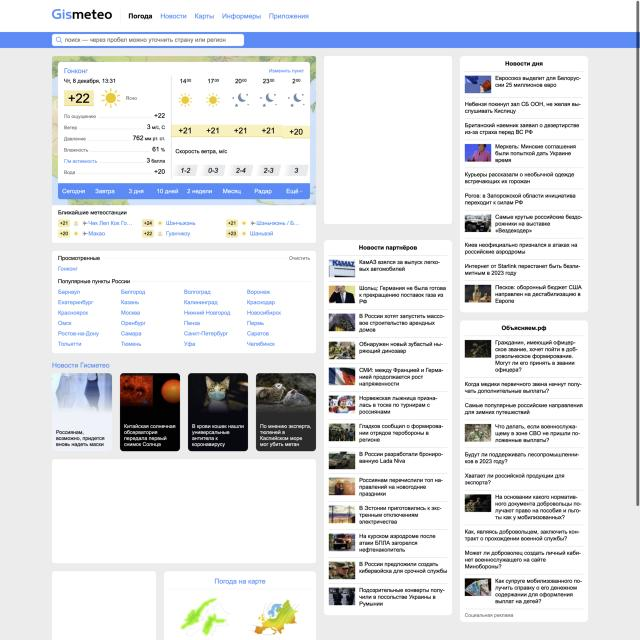input: (52, 34, 245, 46)
logo: (51, 7, 115, 23)
navigation: (125, 9, 314, 24)
